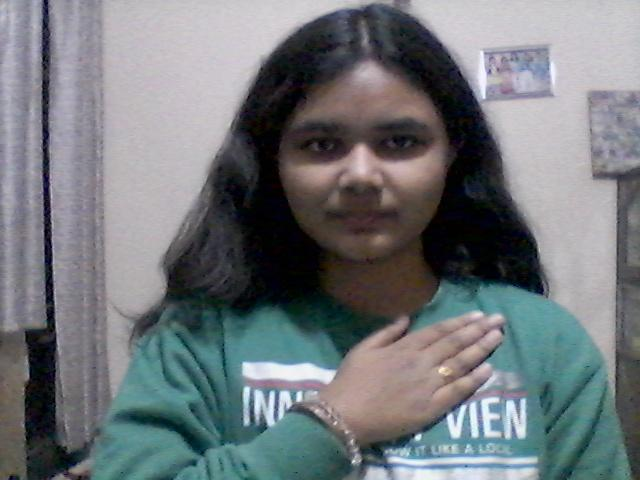please: (299, 293, 511, 454)
